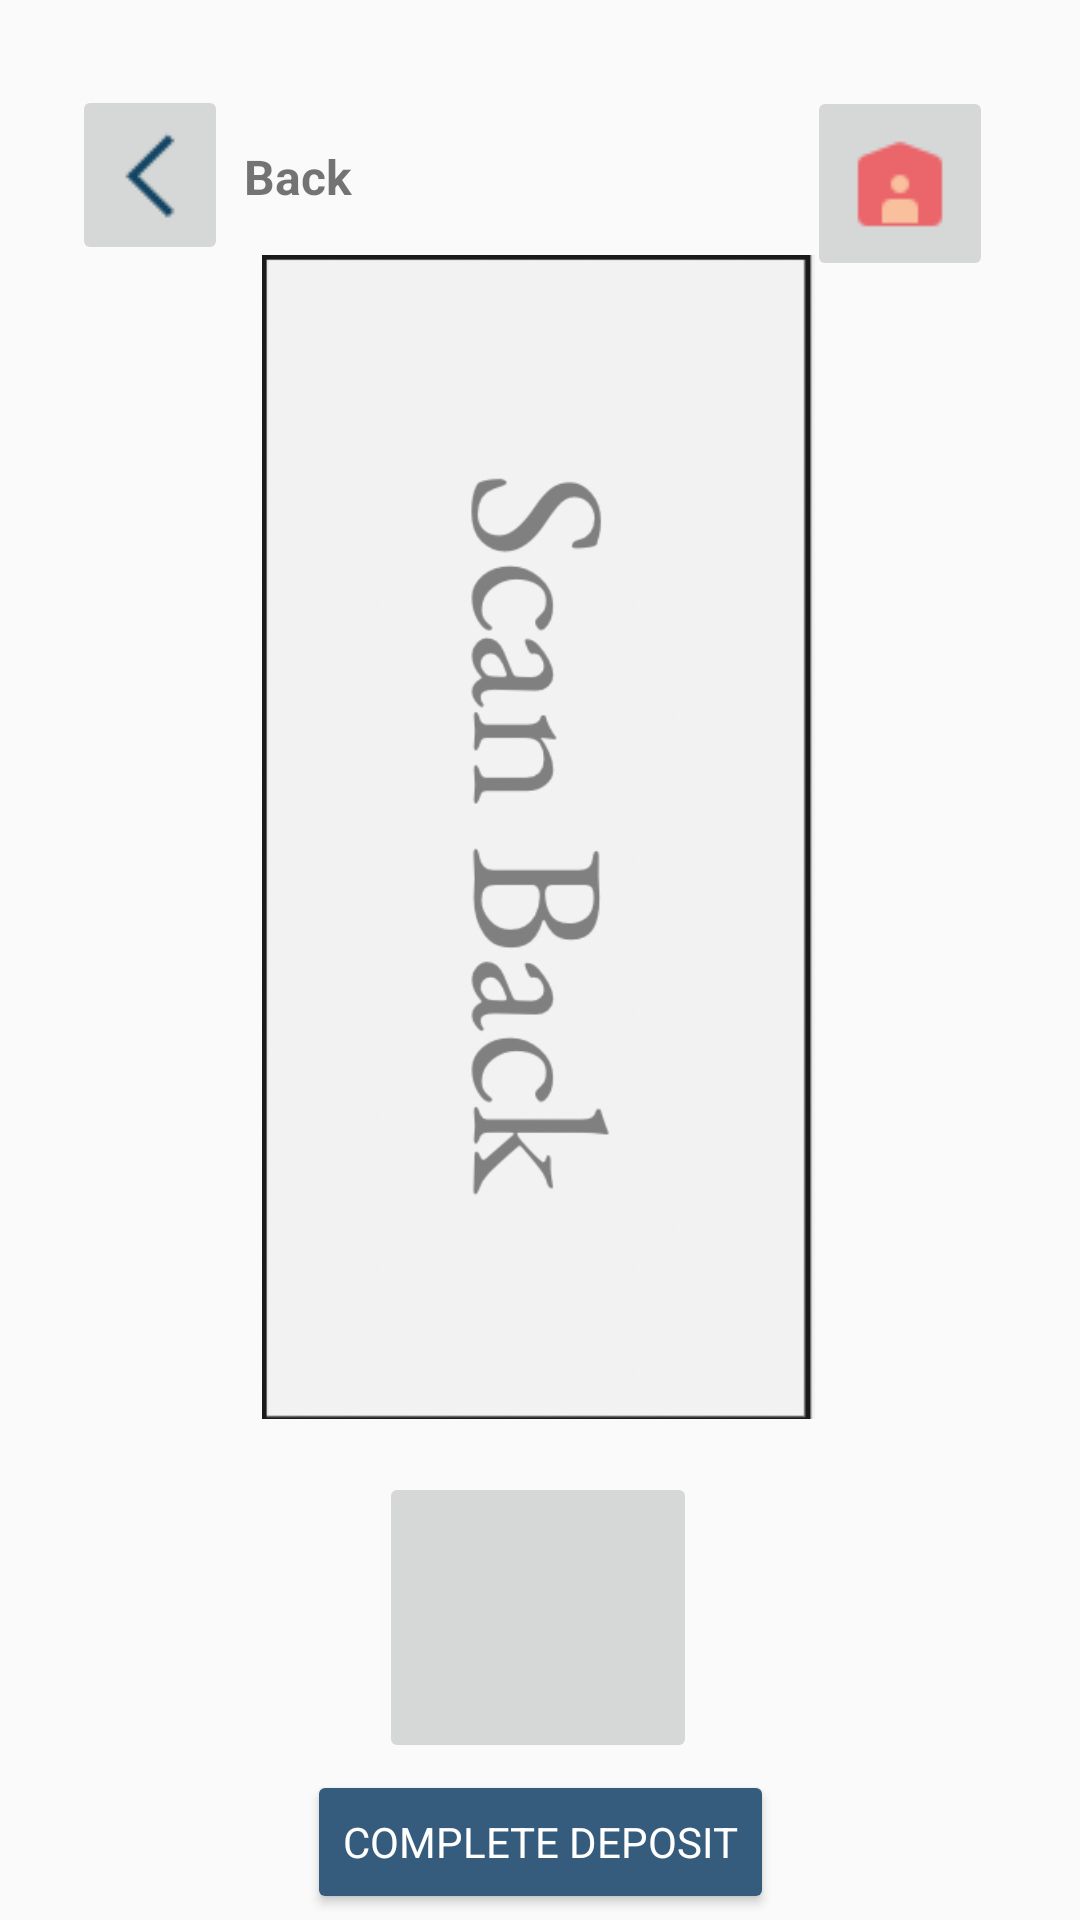

Named icons in this screenshot (1080x1920) and their centers, (x=x, y=y):
iconfinder quarantine home covid: (x=900, y=183)
